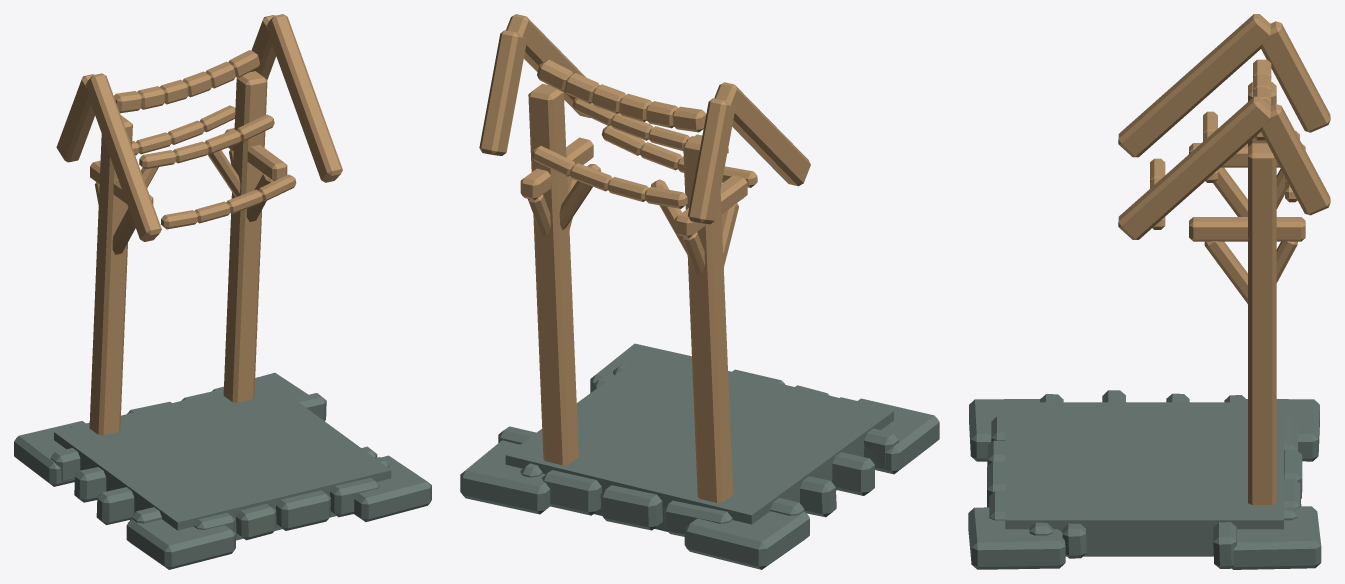
The model's file is frame.glb.
The picture shows the model from 3 angles, left to right: view 1: azimuth 30°, elevation 25°; view 2: azimuth 150°, elevation 25°; view 3: azimuth 270°, elevation 25°; orthographic projection. The views are drawn at different scales.
Parts seen in each view (by area): view 1: frame_timber, basin_core, stones_bottom; view 2: frame_timber, basin_core, stones_bottom; view 3: frame_timber, basin_core, stones_bottom.
Boxes of the visible parts, left/top/right/bottom form: frame_timber: left=56, top=14, right=342, bottom=435; basin_core: left=54, top=380, right=391, bottom=540; stones_bottom: left=14, top=372, right=431, bottom=569; frame_timber: left=479, top=14, right=810, bottom=502; basin_core: left=505, top=351, right=893, bottom=531; stones_bottom: left=460, top=343, right=939, bottom=569; frame_timber: left=1118, top=14, right=1330, bottom=504; basin_core: left=1005, top=402, right=1283, bottom=556; stones_bottom: left=968, top=390, right=1321, bottom=569.
Size of the model in its own units: 2.12 by 3.01 by 2.16.
